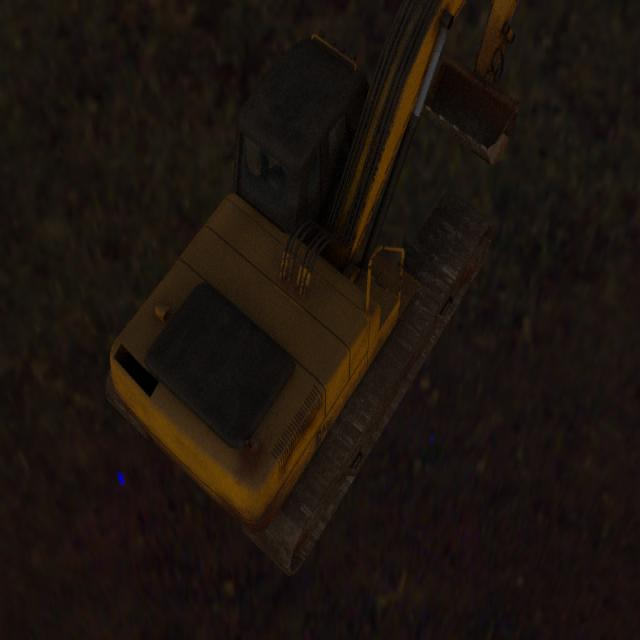excavator: (105, 0, 519, 577)
